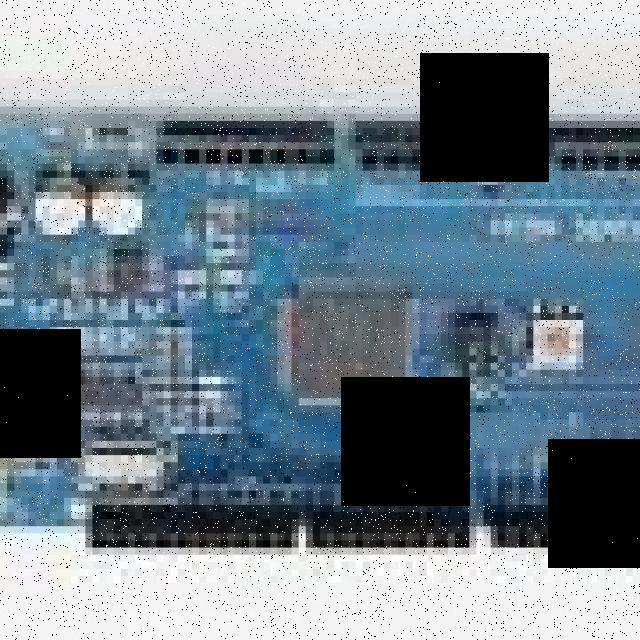arduino: (0, 97, 640, 551)
